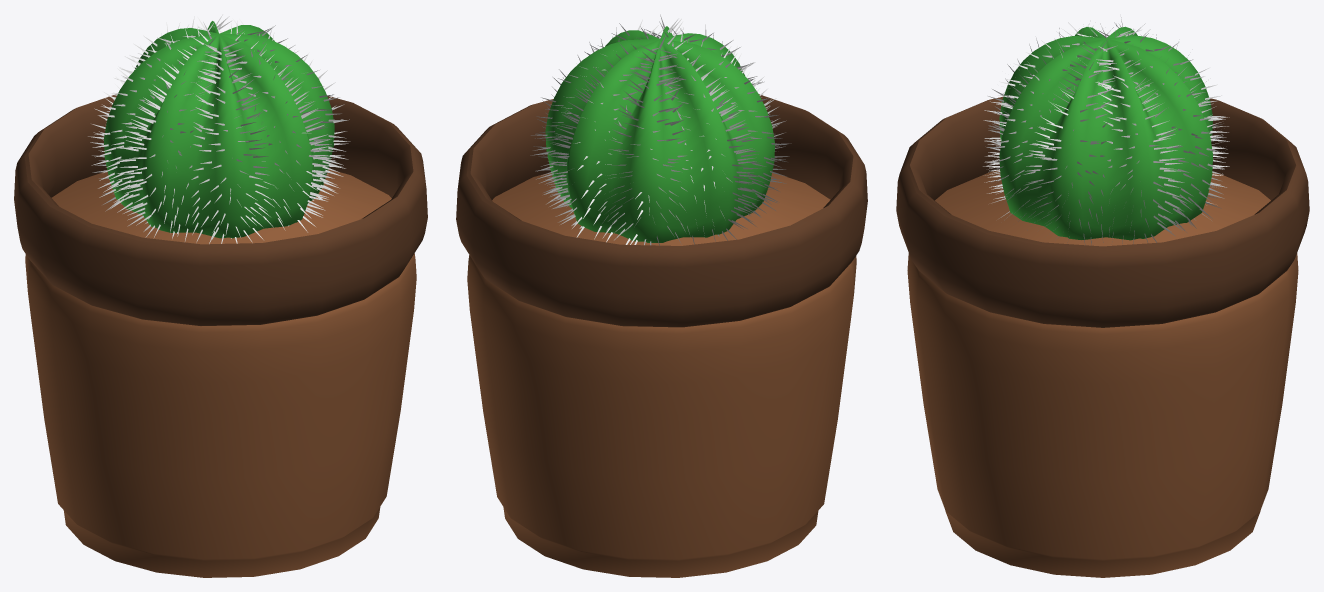
Rendered from cactus_with.fbx.
The picture shows the model from 3 angles, left to right: view 1: azimuth 30°, elevation 25°; view 2: azimuth 150°, elevation 25°; view 3: azimuth 270°, elevation 25°; orthographic projection.
Visible parts, largest first — view 1: pCylinder4, pSphere18, polySurface1; view 2: pCylinder4, pSphere18, polySurface1; view 3: pCylinder4, pSphere18, polySurface1.
Boxes of the visible parts, bbox=[...] form: pCylinder4: bbox=[14, 94, 427, 577]; pSphere18: bbox=[104, 21, 334, 238]; polySurface1: bbox=[88, 14, 350, 243]; pCylinder4: bbox=[456, 94, 867, 577]; pSphere18: bbox=[545, 26, 774, 242]; polySurface1: bbox=[530, 14, 791, 245]; pCylinder4: bbox=[896, 96, 1309, 577]; pSphere18: bbox=[999, 26, 1213, 240]; polySurface1: bbox=[983, 17, 1229, 245].
Bounding box in the file's own units: 17.19 × 22.21 × 17.19.
